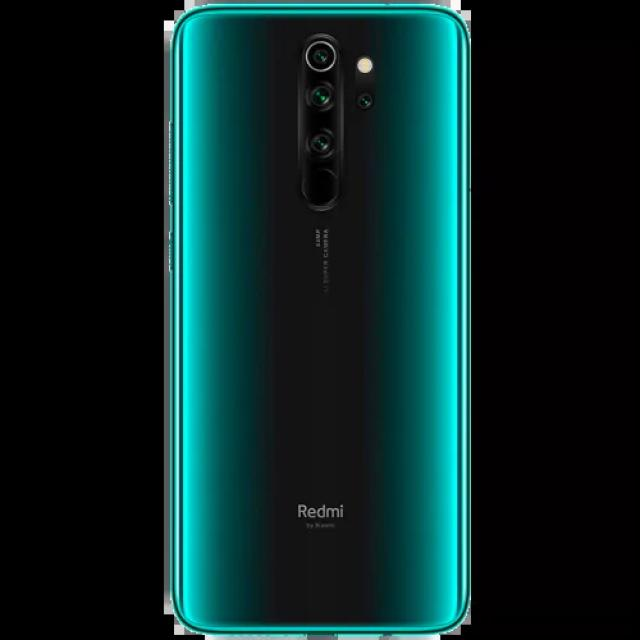Red Mi Note 8 Pro: (164, 0, 475, 640)
